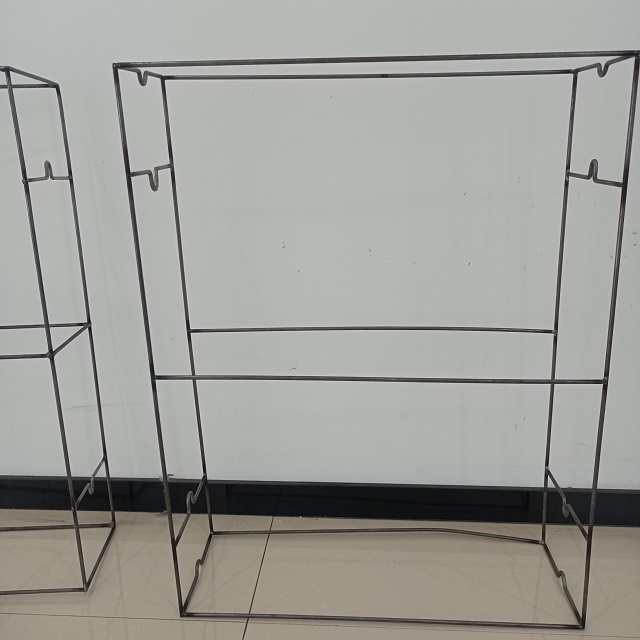curvedhole: (27, 149, 63, 190), (583, 54, 618, 88), (578, 151, 607, 192), (137, 160, 170, 192), (179, 484, 203, 527), (129, 60, 157, 92), (555, 494, 581, 528), (82, 469, 103, 508), (191, 552, 213, 584), (551, 552, 567, 592)
